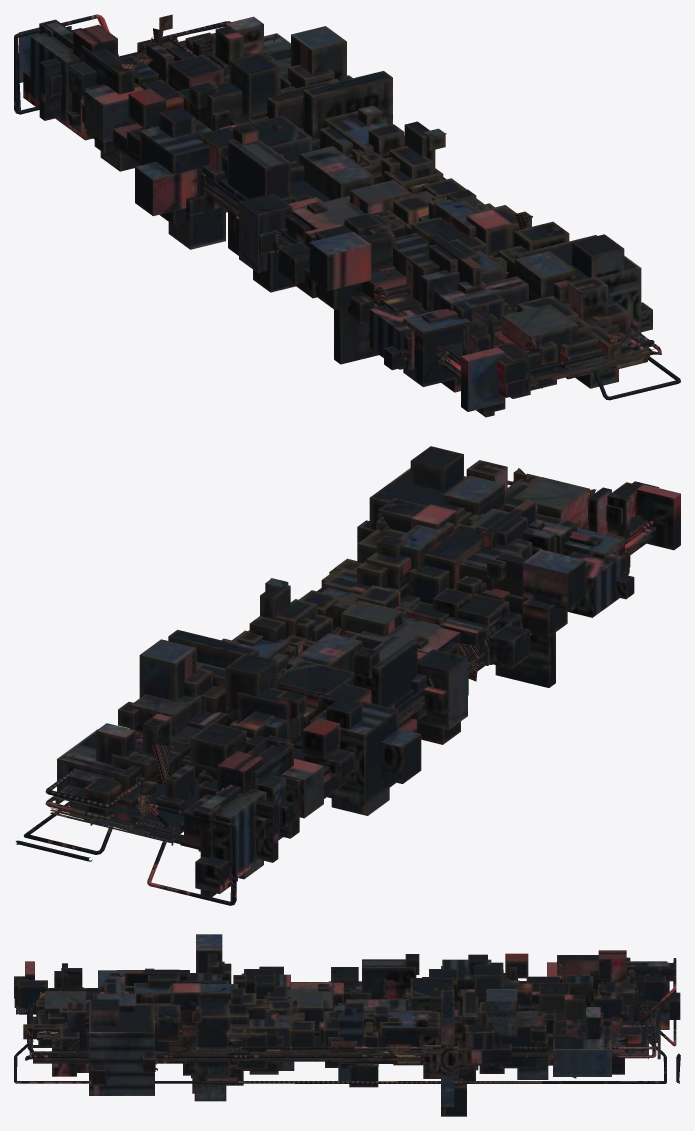
File: station-modules.glb
3 views of the same model, one above another, from view 1: azimuth 30°, elevation 25°; view 2: azimuth 150°, elevation 25°; view 3: azimuth 270°, elevation 25° (orthographic). The views are drawn at different scales.
Parts seen in each view (by area): view 1: spaceship_low_spaceship_0 (×2), spaceship.001_low_spaceship_0, spaceship.005_low_spaceship_0; view 2: spaceship_low_spaceship_0 (×2), spaceship.001_low_spaceship_0, spaceship.005_low_spaceship_0 (×2); view 3: spaceship_low_spaceship_0 (×2), spaceship.001_low_spaceship_0 (×2), spaceship.005_low_spaceship_0 (×2).
Boxes of the visible parts, x1,y1,x2,y2 form: spaceship_low_spaceship_0 (×2): [18, 14, 651, 417]; spaceship.001_low_spaceship_0: [25, 19, 652, 412]; spaceship.005_low_spaceship_0: [14, 14, 680, 400]; spaceship_low_spaceship_0 (×2): [57, 447, 680, 896]; spaceship.001_low_spaceship_0: [60, 446, 656, 892]; spaceship.005_low_spaceship_0 (×2): [15, 480, 655, 905]; spaceship_low_spaceship_0 (×2): [14, 934, 680, 1106]; spaceship.001_low_spaceship_0 (×2): [14, 935, 680, 1116]; spaceship.005_low_spaceship_0 (×2): [14, 958, 680, 1083].
Bounding box in the file's own units: 0.3282 × 0.1902 × 1.
1 material, 1 textured.
